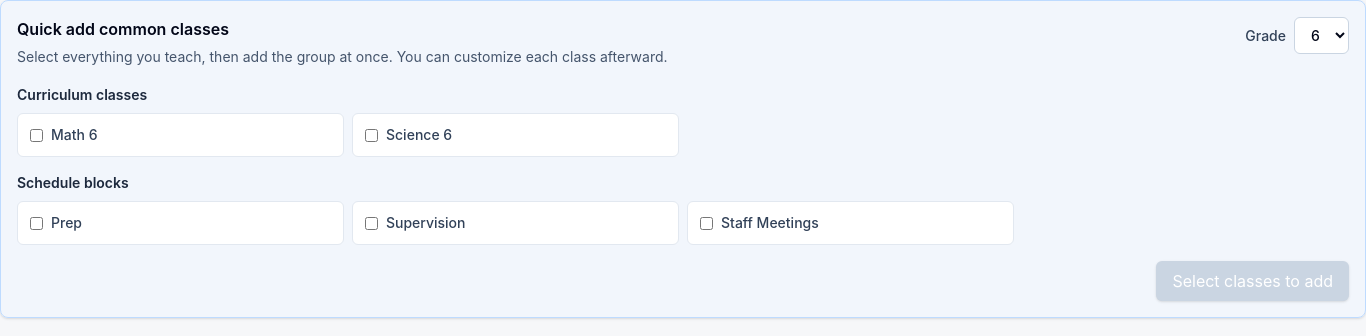
it: OnboardingClassPresets › changes curriculum suggestions by grade while keeping schedule blocks visible
Select "7" in the dropdown named "Grade for curriculum class suggestions" at (1322, 36), box [1294,17,1349,54]
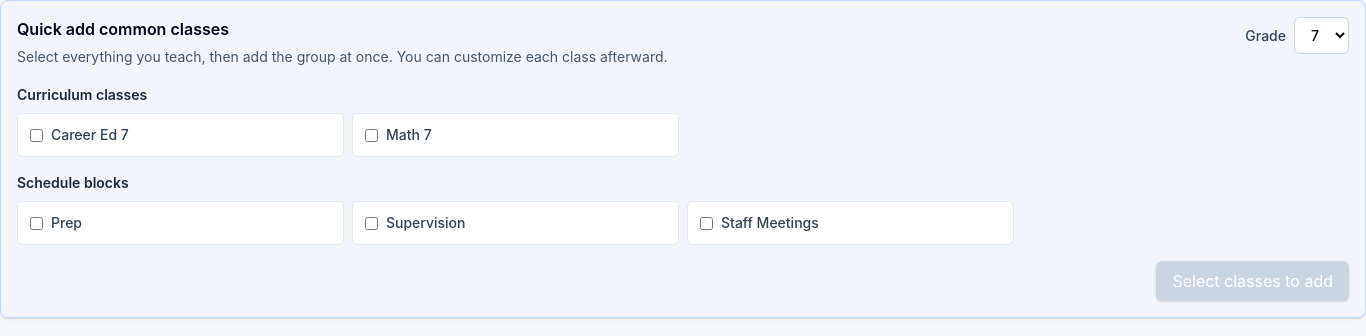
expect the checkbox labelled "Career Ed 7" is enabled: met, box [30,128,43,142]
expect the text "Science 6" is gone: met
